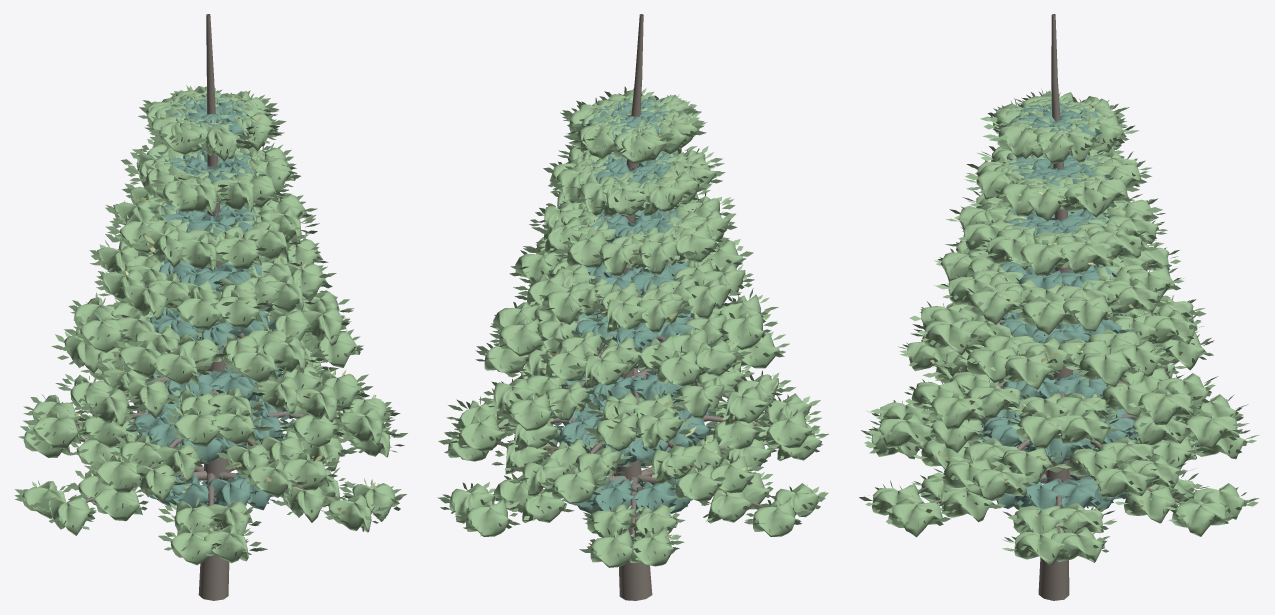
The model's file is cedar_fir.glb.
The picture shows the model from 3 angles, left to right: view 1: azimuth 30°, elevation 25°; view 2: azimuth 150°, elevation 25°; view 3: azimuth 270°, elevation 25°; orthographic projection.
Visible parts, largest first — view 1: cedar_fir; view 2: cedar_fir; view 3: cedar_fir.
Part boxes in pixels (<box>): cedar_fir: <box>14,14,407,600</box>; cedar_fir: <box>437,14,828,600</box>; cedar_fir: <box>859,14,1259,600</box>.
Bounding box in the file's own units: 5.84 × 8.91 × 5.63.
